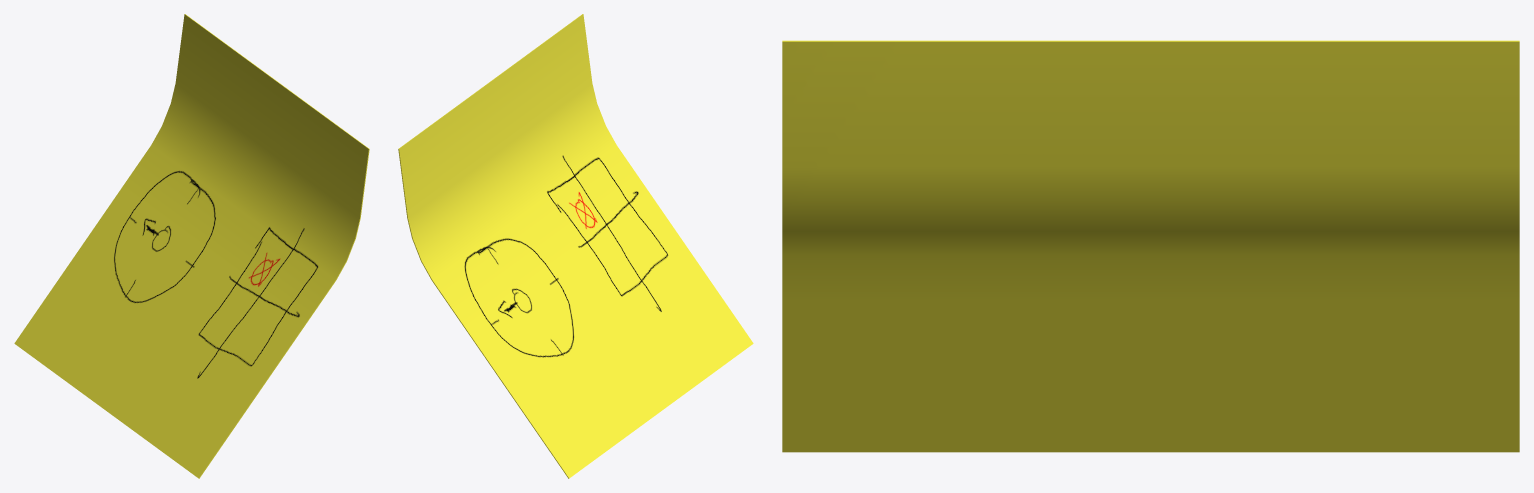
The model's file is Post-It_Coffre.fbx.
The picture shows the model from 3 angles, left to right: view 1: azimuth 30°, elevation 25°; view 2: azimuth 150°, elevation 25°; view 3: azimuth 270°, elevation 25°; orthographic projection. The views are drawn at different scales.
Visible parts, largest first — view 1: Plane; view 2: Plane; view 3: Plane.
Part boxes in pixels (left/top/right/bottom): Plane: left=14, top=14, right=369, bottom=478; Plane: left=398, top=14, right=753, bottom=478; Plane: left=782, top=40, right=1519, bottom=452.
Bounding box in the file's own units: 3.58 × 5.77 × 6.69.
